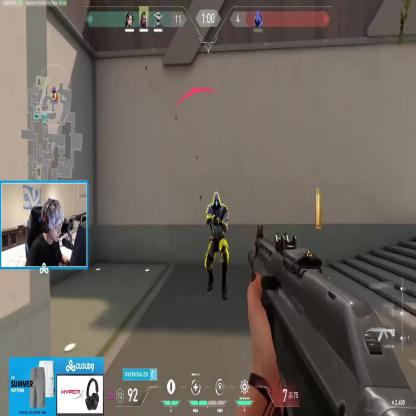enemy: (203, 190, 229, 300)
enemy_head: (212, 192, 221, 210)
